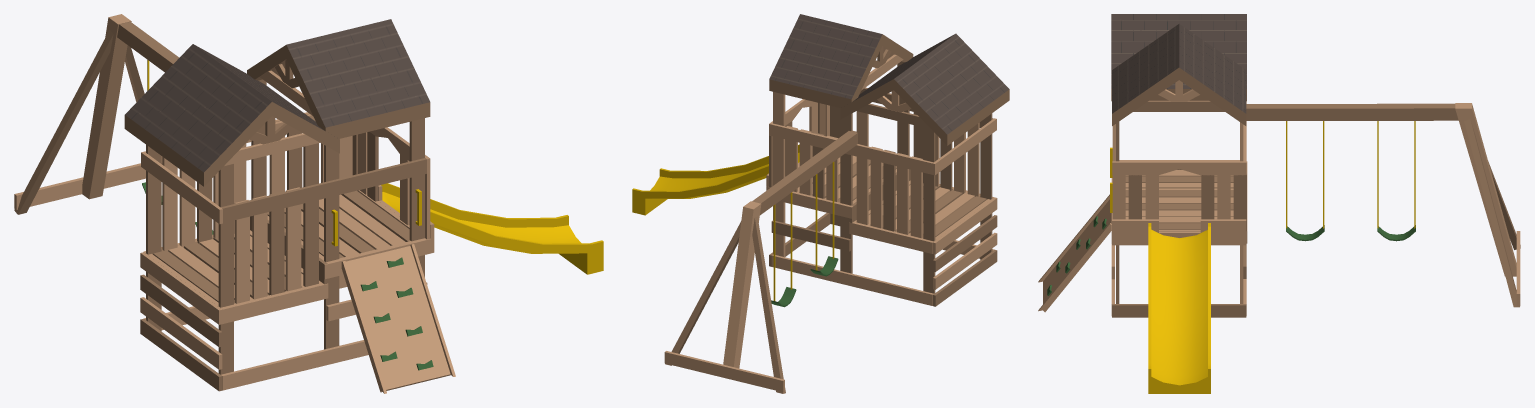
Rendered from Playground.fbx.
The picture shows the model from 3 angles, left to right: view 1: azimuth 30°, elevation 25°; view 2: azimuth 150°, elevation 25°; view 3: azimuth 270°, elevation 25°; orthographic projection. The views are drawn at different scales.
Parts seen in each view (by area): view 1: Playground; view 2: Playground; view 3: Playground.
Part boxes in pixels (left/top/right/bottom): Playground: left=14, top=14, right=603, bottom=393; Playground: left=632, top=14, right=1009, bottom=393; Playground: left=1038, top=14, right=1520, bottom=393.
Size of the model in its own units: 16.7 by 11.19 by 19.31.
